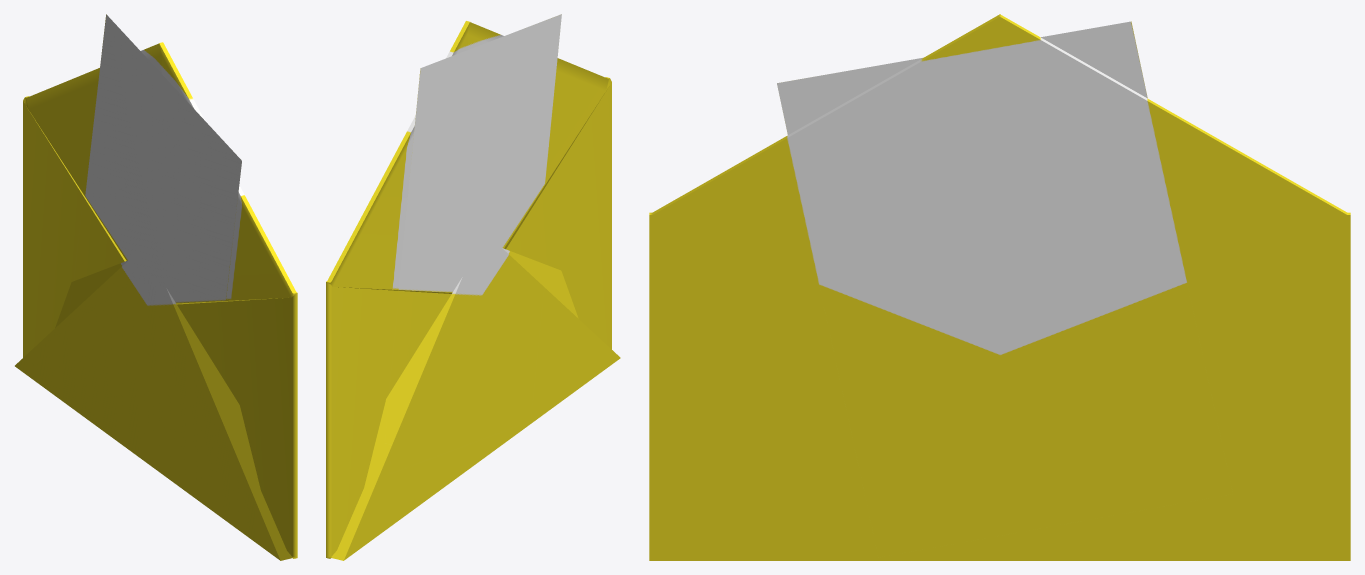
File: envelope.fbx
The picture shows the model from 3 angles, left to right: view 1: azimuth 30°, elevation 25°; view 2: azimuth 150°, elevation 25°; view 3: azimuth 270°, elevation 25°; orthographic projection. The views are drawn at different scales.
Visible parts, largest first — view 1: pCube4; view 2: pCube4; view 3: pCube4.
Boxes of the visible parts, <box> form: pCube4: <box>15,14,297,560</box>; pCube4: <box>326,14,620,560</box>; pCube4: <box>649,14,1350,560</box>.
Bounding box in the file's own units: 0.4845 × 12.27 × 14.33.
